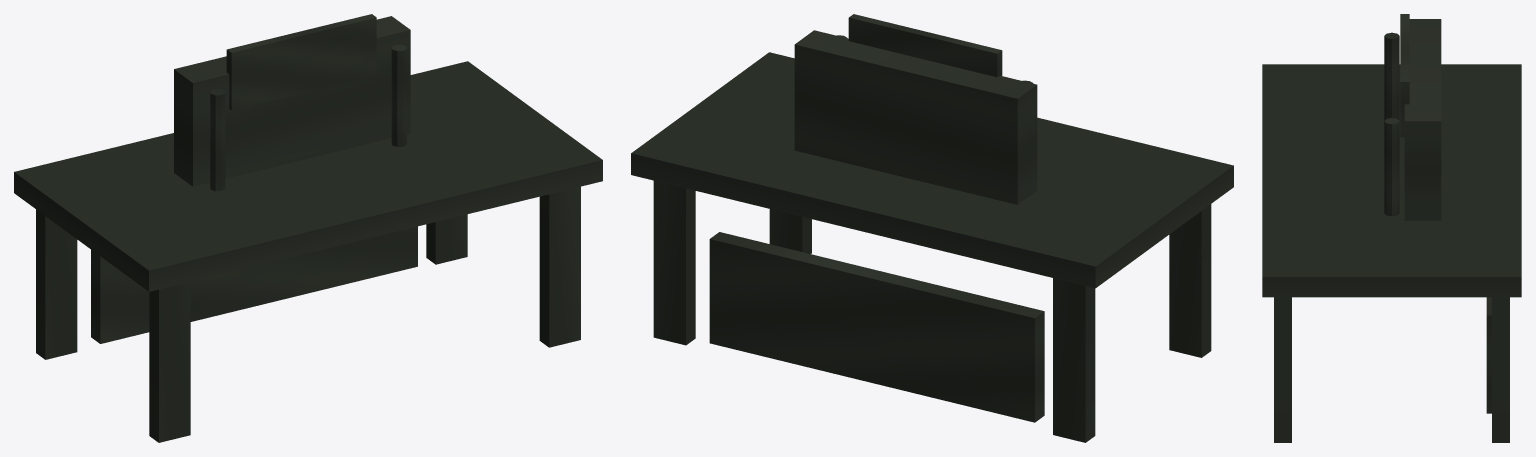
Rendered from prop_terminal_desk_a.glb.
3 renders of one model, left to right at view 1: azimuth 30°, elevation 25°; view 2: azimuth 150°, elevation 25°; view 3: azimuth 270°, elevation 25°, orthographic. The views are drawn at different scales.
Visible parts, largest first — view 1: prop_terminal_desk_a; view 2: prop_terminal_desk_a; view 3: prop_terminal_desk_a.
Part boxes in pixels (<box>): prop_terminal_desk_a: <box>14,14,602,442</box>; prop_terminal_desk_a: <box>631,14,1233,442</box>; prop_terminal_desk_a: <box>1262,14,1521,442</box>.
Size of the model in its own units: 1.65 by 1.07 by 0.85.
1 material, 1 textured.
